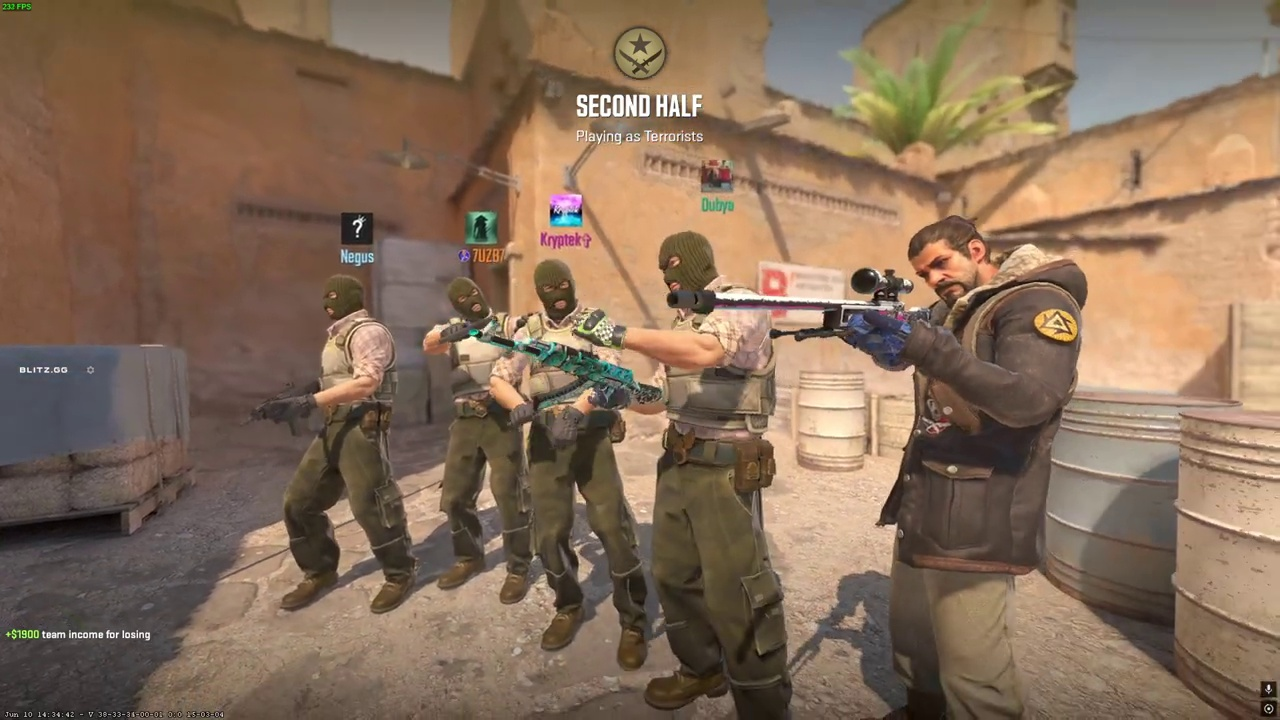Terrorist: (850, 215, 1087, 720), (630, 231, 793, 720), (509, 258, 649, 671), (268, 274, 418, 614), (423, 277, 533, 603)
